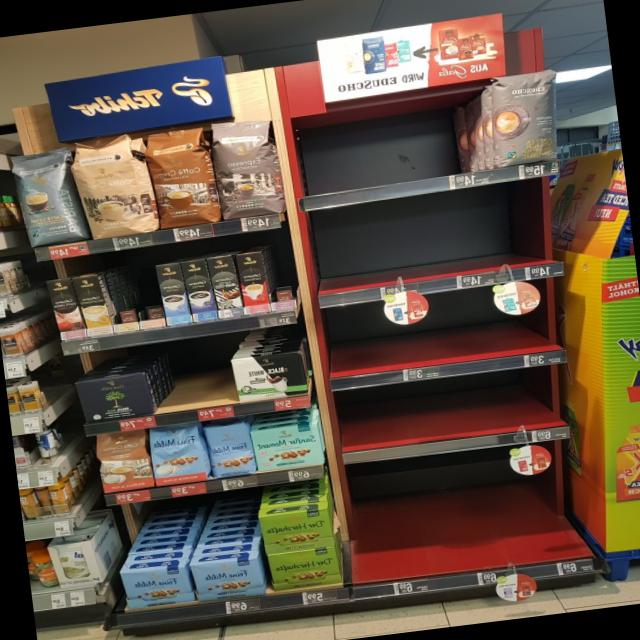BM Gemahlen: (73, 368, 154, 426)
BW Gemahlen: (228, 347, 310, 402)
Barista CC: (8, 144, 80, 248)
Barista Espresso: (208, 115, 286, 222)
CC Mild: (68, 130, 154, 242)
CC Vollmundig: (92, 428, 154, 494)
CC Vollmundig 36 Pads: (144, 124, 219, 230)
Empty Shelf: (149, 355, 234, 412), (263, 245, 296, 303), (130, 265, 164, 321), (105, 269, 137, 324)
FM 36 Pads: (147, 422, 209, 488)
FM Bohne: (204, 418, 255, 478)
FM Gemahlen: (118, 562, 194, 611), (190, 554, 262, 604)
Herzhatfe Mundig: (257, 504, 334, 556), (265, 544, 341, 594)
SM Gemahlen: (249, 419, 322, 474)
Simo CC Colombia: (45, 277, 87, 340)
Simo Decaff: (71, 274, 113, 336)
Simo Es Brazil: (235, 250, 270, 316)
Simo Es Elegant: (207, 254, 243, 319)
Simo Es Kraft: (180, 258, 217, 322)
Simo Es Vanilla: (154, 262, 192, 326)
